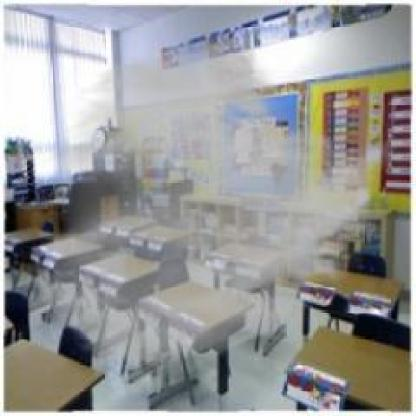Smoke: (29, 35, 397, 374)
